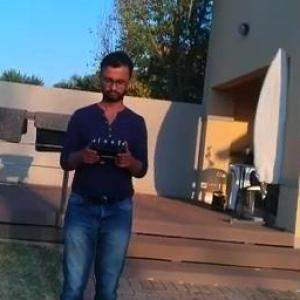follow: (53, 48, 157, 299)
